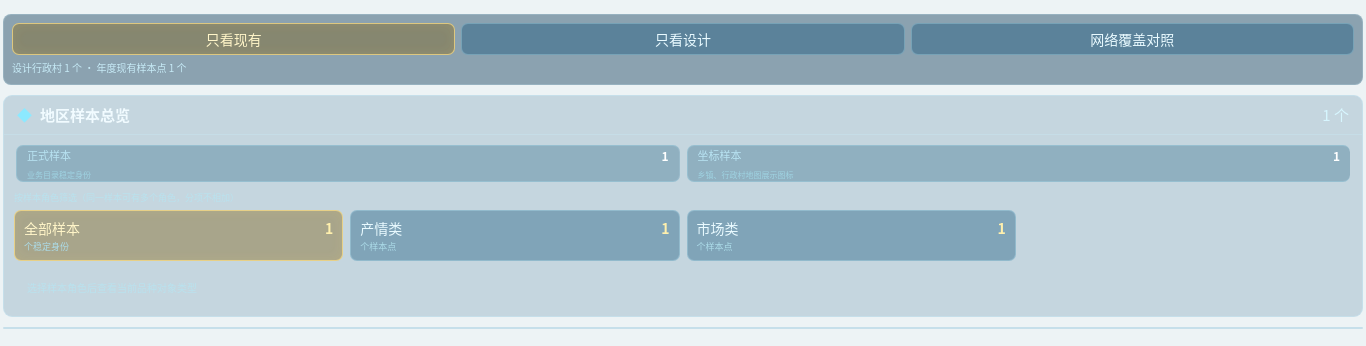
Test: OverviewSamplePointPanel › switches between actual, design, and comparison layers without changing actual icons
Expected: the element named "地图样本点图层" is shown, [12, 23, 1354, 55]
Click the button "只看设计" at (683, 39), box [461, 23, 905, 55]
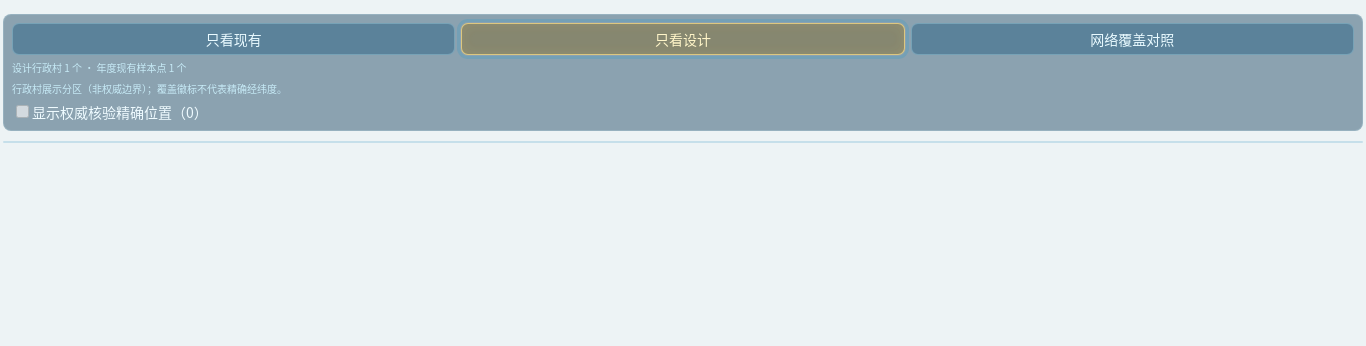
Expected: the text "设计行政村 1 个 · 年度现有样本点 1 个" is shown, [12, 60, 187, 75]
Result: the text "行政村展示分区（非权威边界）；覆盖徽标不代表精确经纬度。" is shown at [12, 80, 287, 96]
Result: the button "产情类 1" is gone
